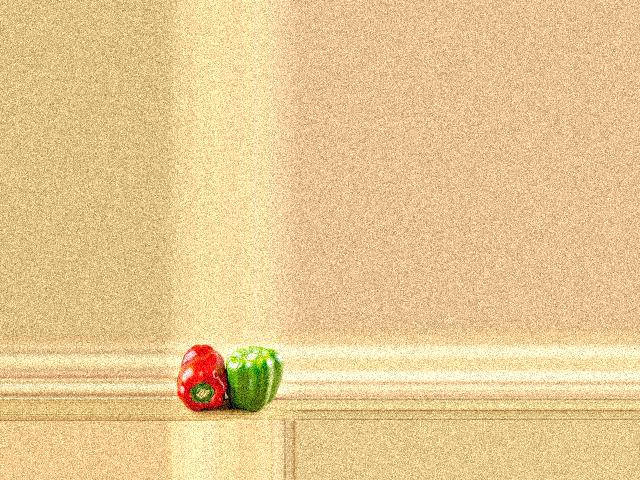bell_pepper: (175, 344, 229, 410)
